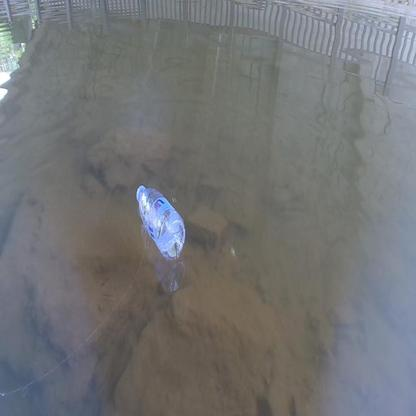plastic bottle: (135, 185, 186, 260)
